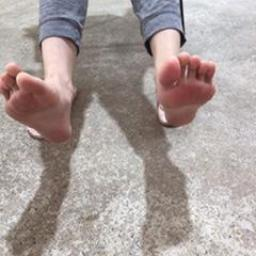Plantar View -Both Feet-: (1, 48, 228, 146)
